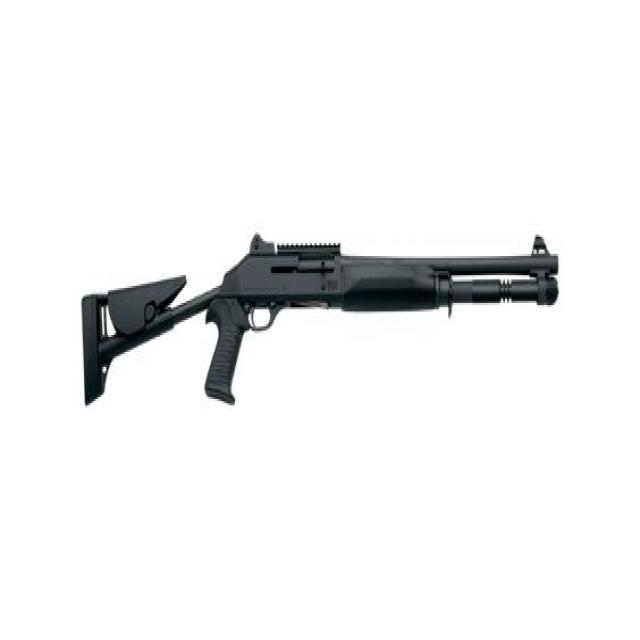shotgun: (70, 214, 566, 420)
